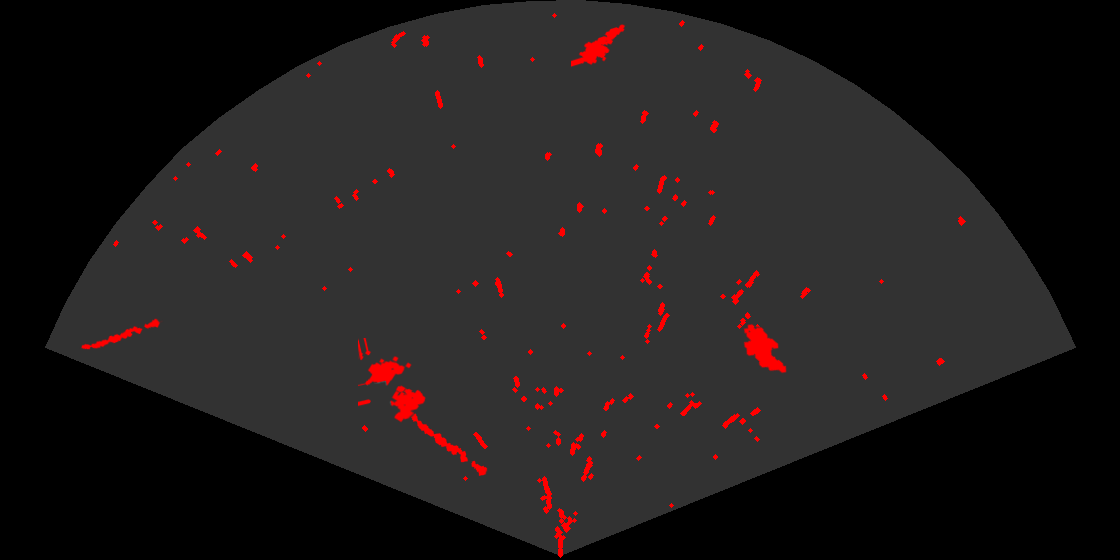AUV: (742, 322, 788, 375)
cage: (358, 338, 427, 424)
chain: (408, 410, 489, 478), (79, 317, 164, 351)
frogman: (571, 23, 627, 69)
